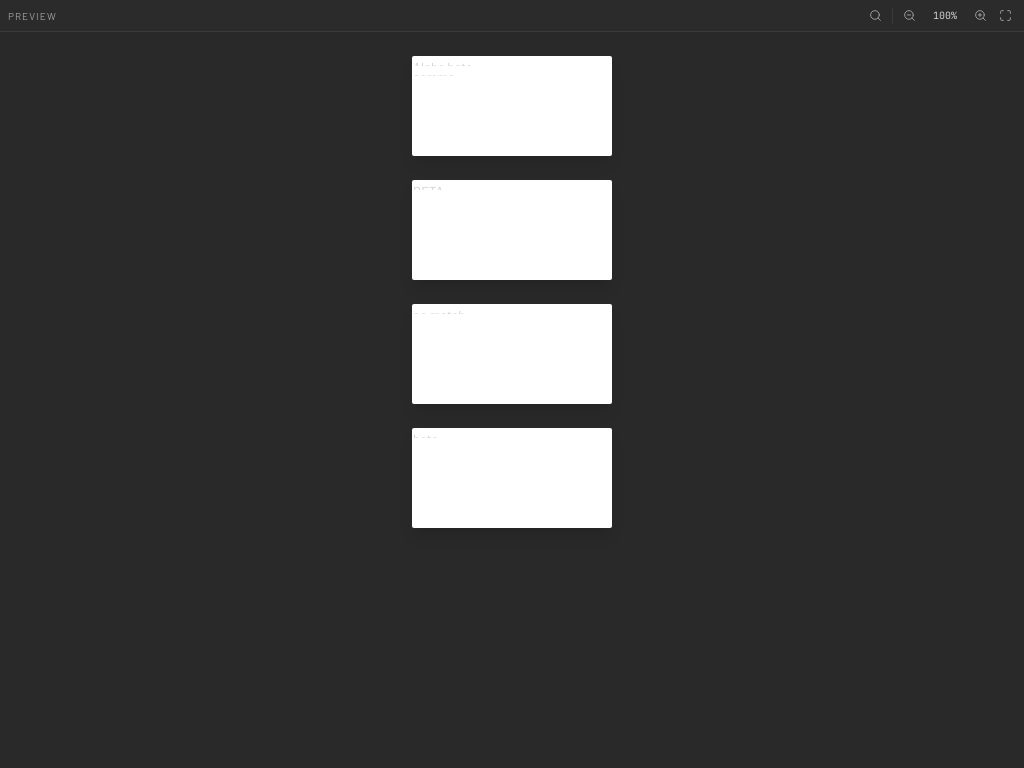
Scenario: TypstPreview lock and find › searches again when the pages re-render
The width and height of the screenshot is (1024, 768).
Click the button named "Find in the preview".
click(876, 16)  # box [865,5,886,26]
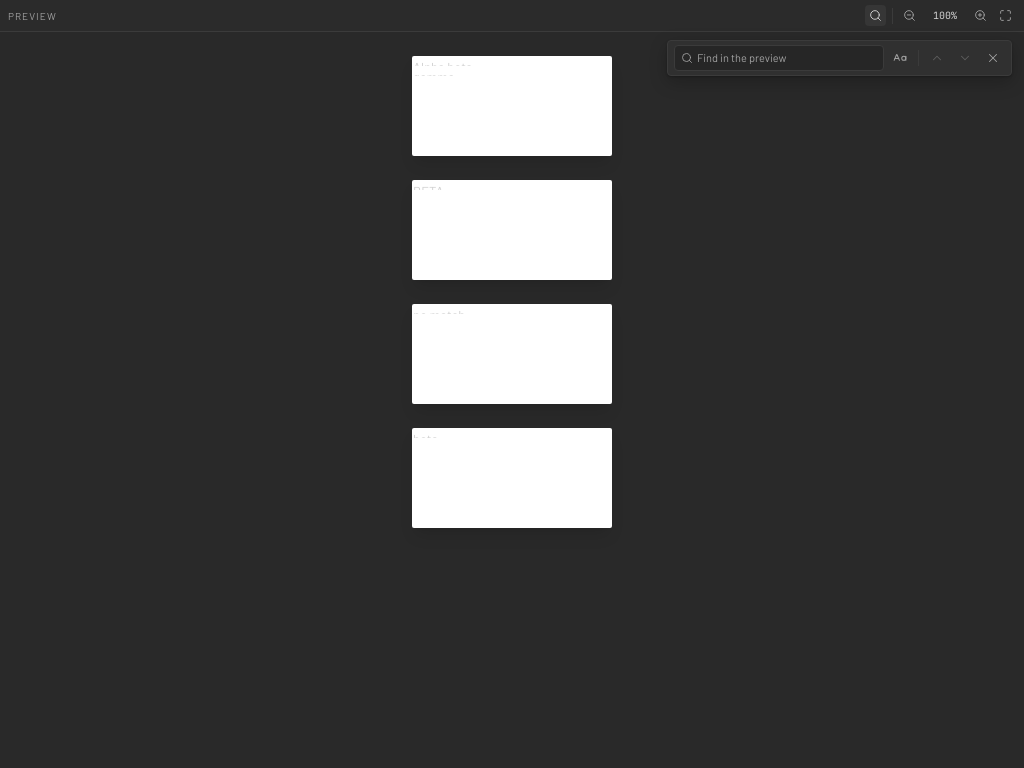
Type "beta" into the field named "Find in the preview".
click(785, 58); type("beta")  # box [697,46,873,70]
Wait 200 ms
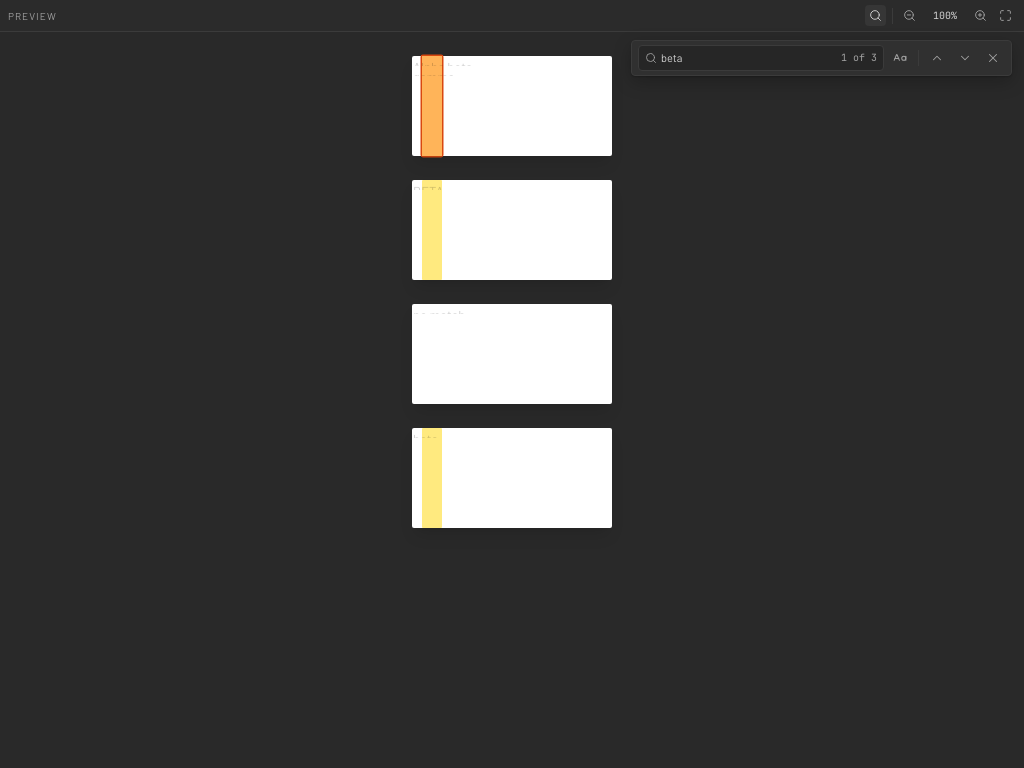
Result: the text with test id "preview-find-count" reads "1 of 3" at [841,51,877,64]
